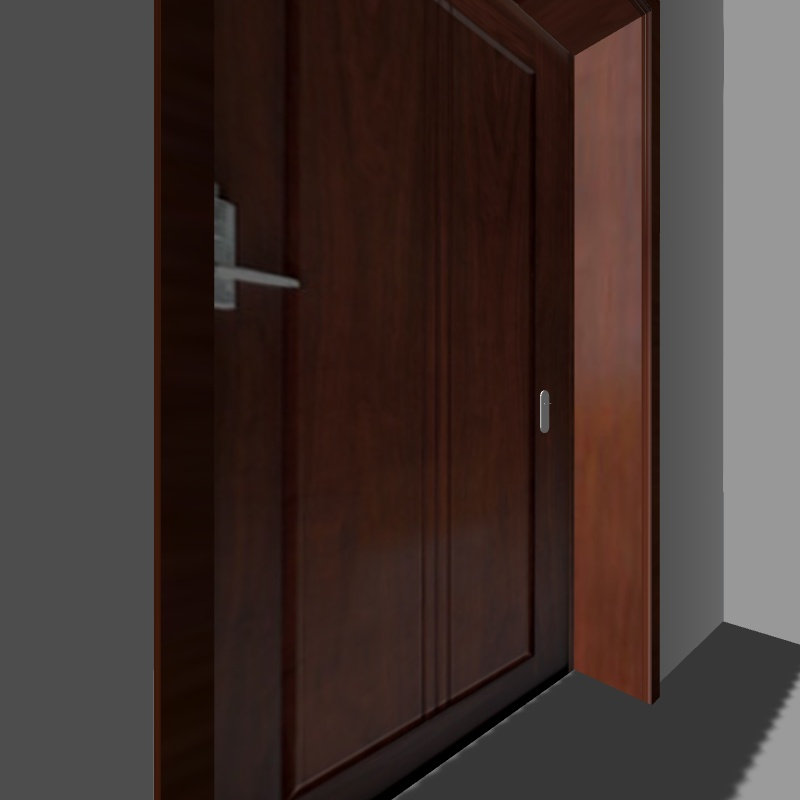handle: (192, 181, 307, 336)
